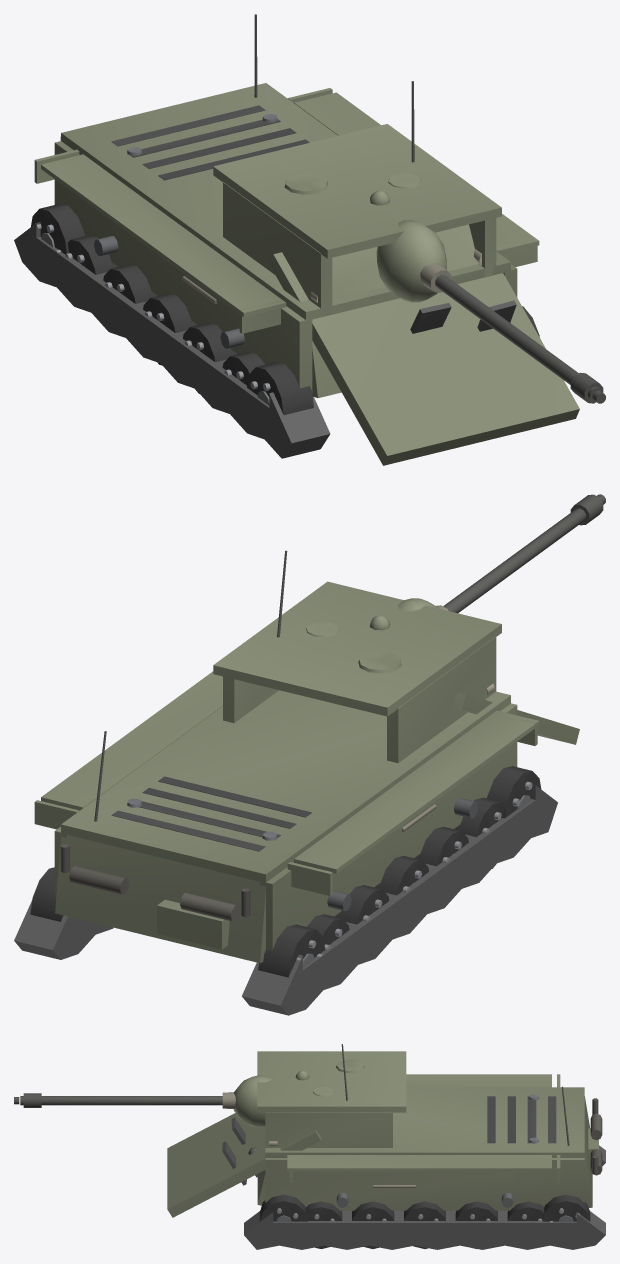
The picture shows the model from 3 angles, top to bottom: view 1: azimuth 30°, elevation 25°; view 2: azimuth 150°, elevation 25°; view 3: azimuth 270°, elevation 25°; orthographic projection. The views are drawn at different scales.
Visible parts, largest first — view 1: glacis, hullSide, hullTop, turretRoof, tracks, mantlet, turretSide, barrel, wheel5, wheel6, wheel2, wheel1 (+4 smaller); view 2: hullTop, hullSide, turretRoof, hullRear, tracks, turretSide, barrel, wheel6, wheel5, glacis, wheel2, wheel3 (+4 smaller); view 3: hullSide, hullTop, tracks, turretRoof, glacis, turretSide, barrel, hullRear, mantlet, wheel12, wheel13, wheel10 (+5 smaller).
Boxes of the visible parts, x1,y1,x2,y2 form: glacis: (269, 252, 579, 465); hullSide: (34, 88, 539, 392); hullTop: (61, 83, 510, 320); turretRoof: (213, 81, 501, 258); tracks: (14, 222, 330, 458); mantlet: (332, 220, 478, 302); turretSide: (223, 182, 496, 316); barrel: (420, 263, 605, 403); wheel5: (247, 362, 313, 414); wheel6: (31, 204, 85, 254); wheel2: (143, 293, 197, 365); wheel1: (103, 264, 157, 303); hullTop: (61, 690, 510, 882); hullSide: (34, 671, 539, 950); turretRoof: (213, 550, 501, 716); hullRear: (55, 731, 267, 963); tracks: (14, 784, 557, 1015); turretSide: (223, 637, 496, 762); barrel: (436, 494, 605, 613); wheel6: (258, 924, 324, 977); wheel5: (487, 766, 541, 818); glacis: (453, 692, 579, 744); wheel2: (374, 856, 428, 895); wheel3: (414, 826, 468, 866); hullSide: (265, 1074, 584, 1210); hullTop: (265, 1087, 584, 1157); tracks: (244, 1145, 605, 1249); turretRoof: (257, 1044, 406, 1112); glacis: (167, 1113, 321, 1217); turretSide: (265, 1112, 392, 1147); barrel: (14, 1092, 235, 1108); hullRear: (561, 1086, 602, 1207); mantlet: (233, 1075, 271, 1127); wheel12: (259, 1194, 307, 1222); wheel13: (542, 1194, 590, 1222); wheel10: (352, 1201, 394, 1248).
Bounding box in the file's own units: 4.18 × 3.83 × 11.12.
